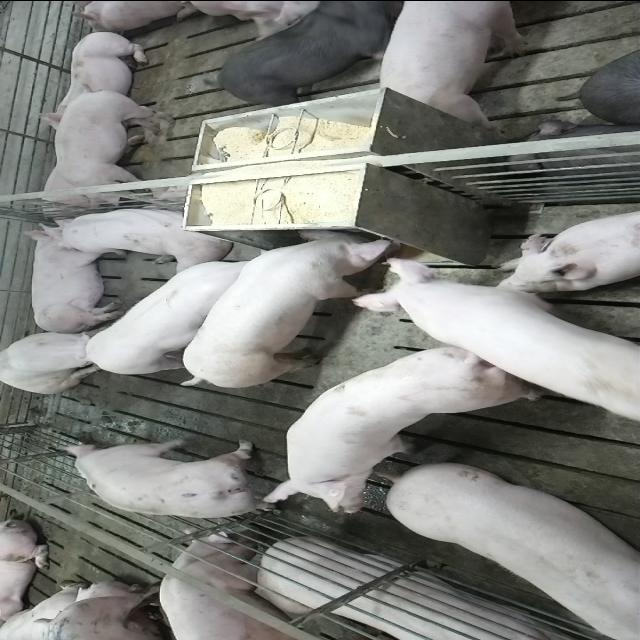Feeding: (352, 255, 640, 445), (174, 221, 406, 385)
Lateral_lying: (239, 539, 607, 640), (20, 222, 126, 334)
Sitting: (1, 326, 117, 394)
Standing: (265, 339, 549, 512), (383, 464, 640, 640), (80, 250, 278, 378), (372, 2, 540, 128), (217, 2, 410, 106), (62, 435, 286, 520), (52, 86, 182, 211), (162, 533, 302, 640)
Sternal_lying: (44, 202, 234, 266), (495, 205, 640, 288), (30, 30, 154, 124)
